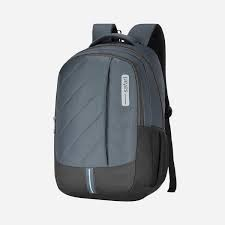backpack: (53, 22, 176, 201)
